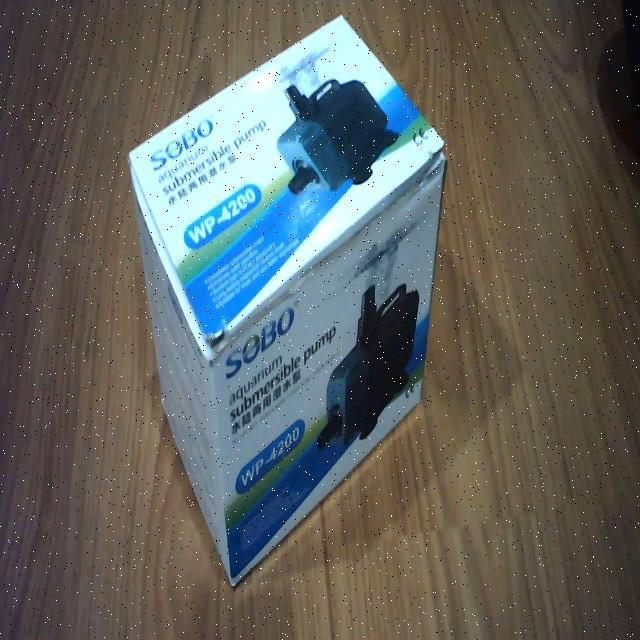SOBO_WP_4200: (124, 12, 452, 598)
